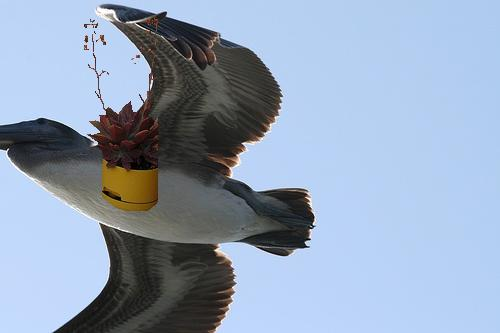tampered: (85, 17, 158, 211)
